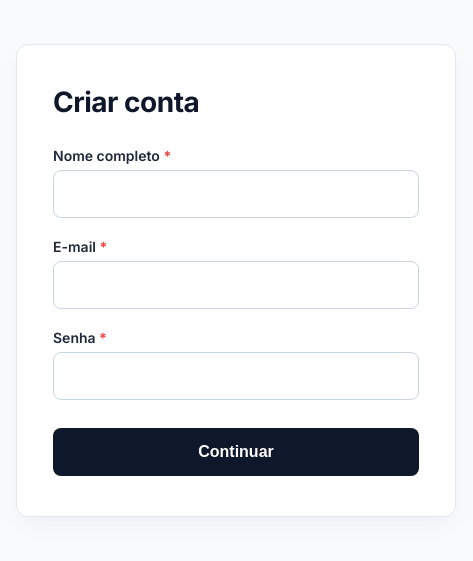
it: Cadastro › mostra erro de validação retornado pela API
Type "Ana Lima" into the field labelled "Nome completo *" at [236, 194], box [53,170,419,218]
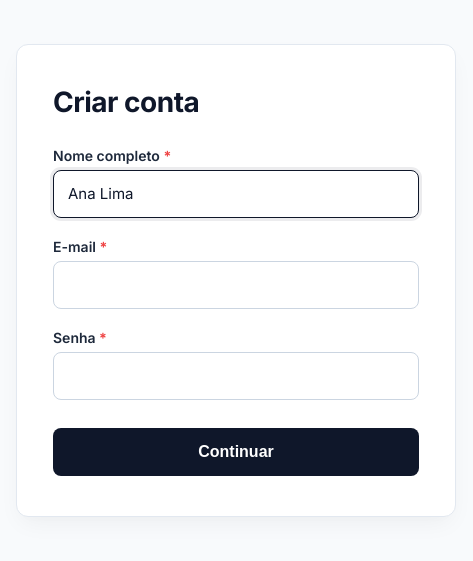
Type "ana@exemplo.com" into the field labelled "E-mail *" at [236, 284], box [53,260,419,308]
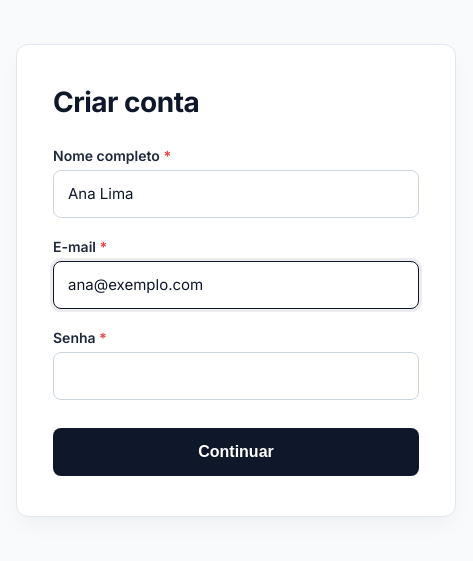
Type "senha-segura" into the password field labelled "Senha *" at [236, 376], box [53,352,419,400]
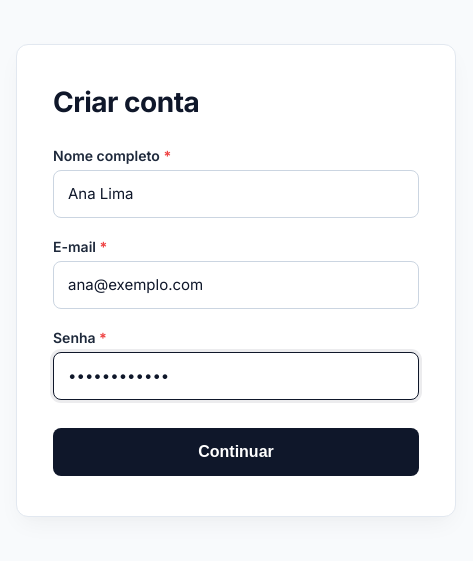
Click the button "Continuar" at [236, 452], box [53,428,419,476]
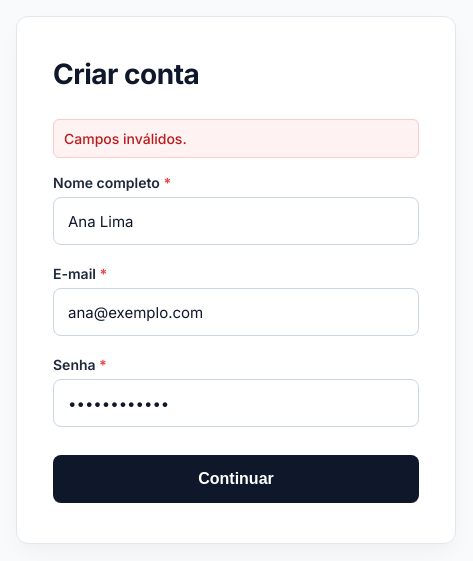
Expected: the text "Campos inválidos." is shown, [53,119,419,158]
